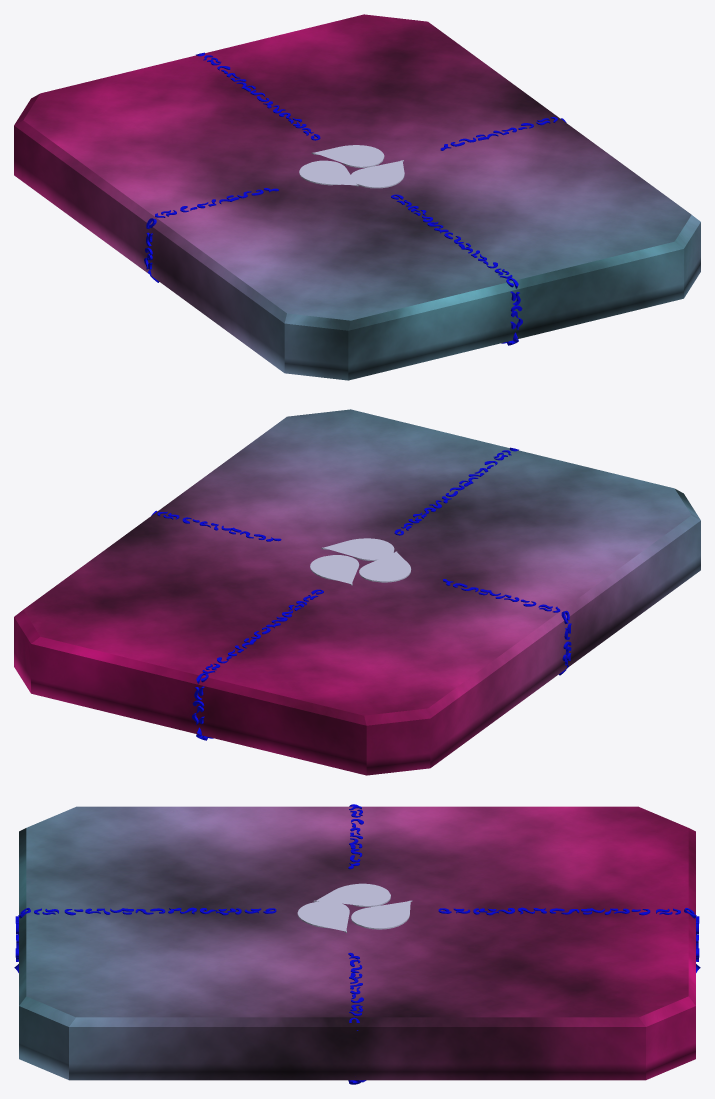
Rendered from envPlat1.fbx.
3 views of the same model, one above another, from view 1: azimuth 30°, elevation 25°; view 2: azimuth 150°, elevation 25°; view 3: azimuth 270°, elevation 25° (orthographic). The views are drawn at different scales.
Parts seen in each view (by area): view 1: platform1, runSwril, runesStripe1, runesStripe2; view 2: platform1, runSwril, runesStripe1, runesStripe2; view 3: platform1, runSwril, runesStripe1, runesStripe2.
Part boxes in pixels (x1=…): platform1: x1=14, y1=14, x2=700, y2=380; runSwril: x1=299, y1=145, x2=404, y2=188; runesStripe1: x1=196, y1=52, x2=522, y2=345; runesStripe2: x1=144, y1=117, x2=566, y2=282; platform1: x1=14, y1=409, x2=700, y2=775; runSwril: x1=310, y1=538, x2=411, y2=585; runesStripe1: x1=192, y1=447, x2=518, y2=740; runesStripe2: x1=151, y1=510, x2=571, y2=675; platform1: x1=19, y1=806, x2=695, y2=1080; runSwril: x1=297, y1=883, x2=412, y2=932; runesStripe1: x1=14, y1=907, x2=700, y2=972; runesStripe2: x1=348, y1=804, x2=366, y2=1084.
Size of the model in its own units: 0.1106 by 0.0353 by 0.1471.
3 materials, 1 textured.
